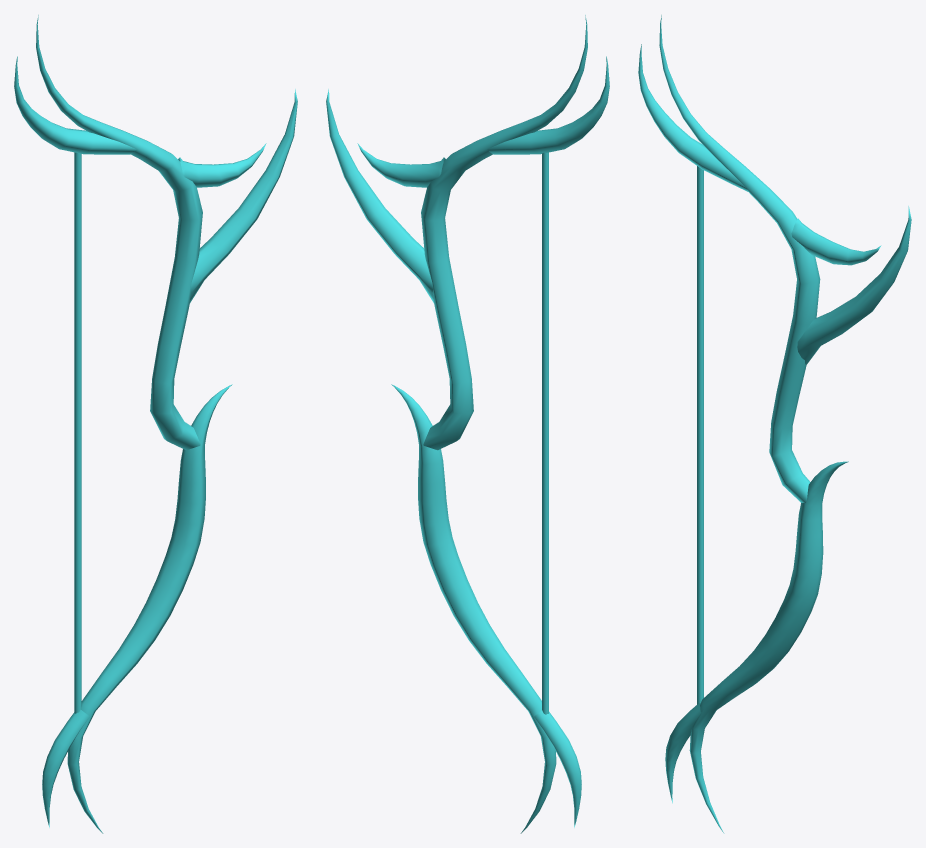
File: IrisAnimations.fbx
3 renders of one model, left to right at view 1: azimuth 30°, elevation 25°; view 2: azimuth 150°, elevation 25°; view 3: azimuth 330°, elevation 25°, orthographic. The views are drawn at different scales.
Visible parts, largest first — view 1: Arma; view 2: Arma; view 3: Arma.
Part boxes in pixels (box(x1,y1,x2,y2)): Arma: box(14, 15, 297, 833); Arma: box(326, 15, 609, 833); Arma: box(638, 15, 911, 833).
Bounding box in the file's own units: 74.03 × 209 × 8.28.
